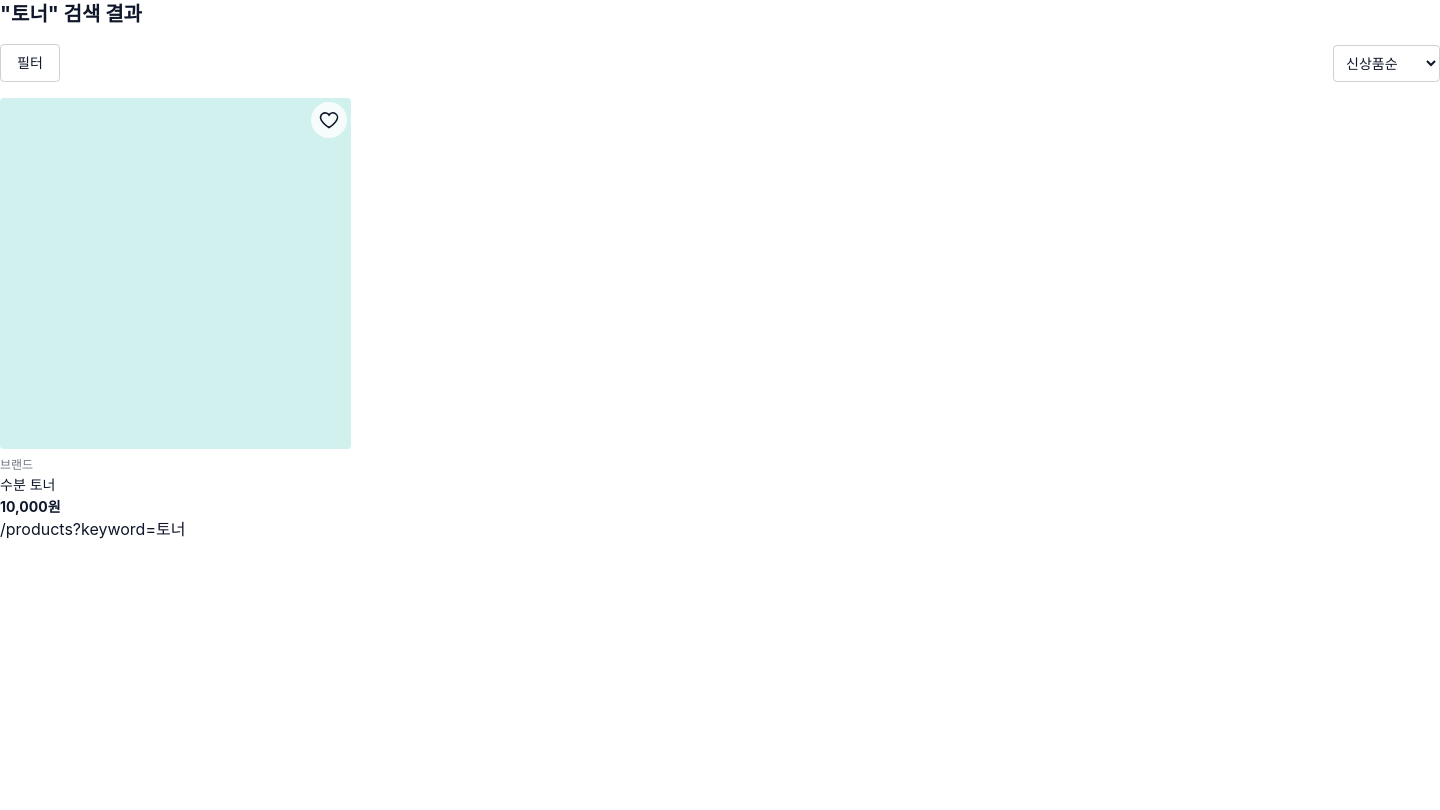
Test: 필터를 적용하면 URL이 바뀐다
Expected: the text "수분 토너" is shown, [0,476,56,493]
Step 1. Click the button "필터" → [30, 63], box [0,44,60,82]
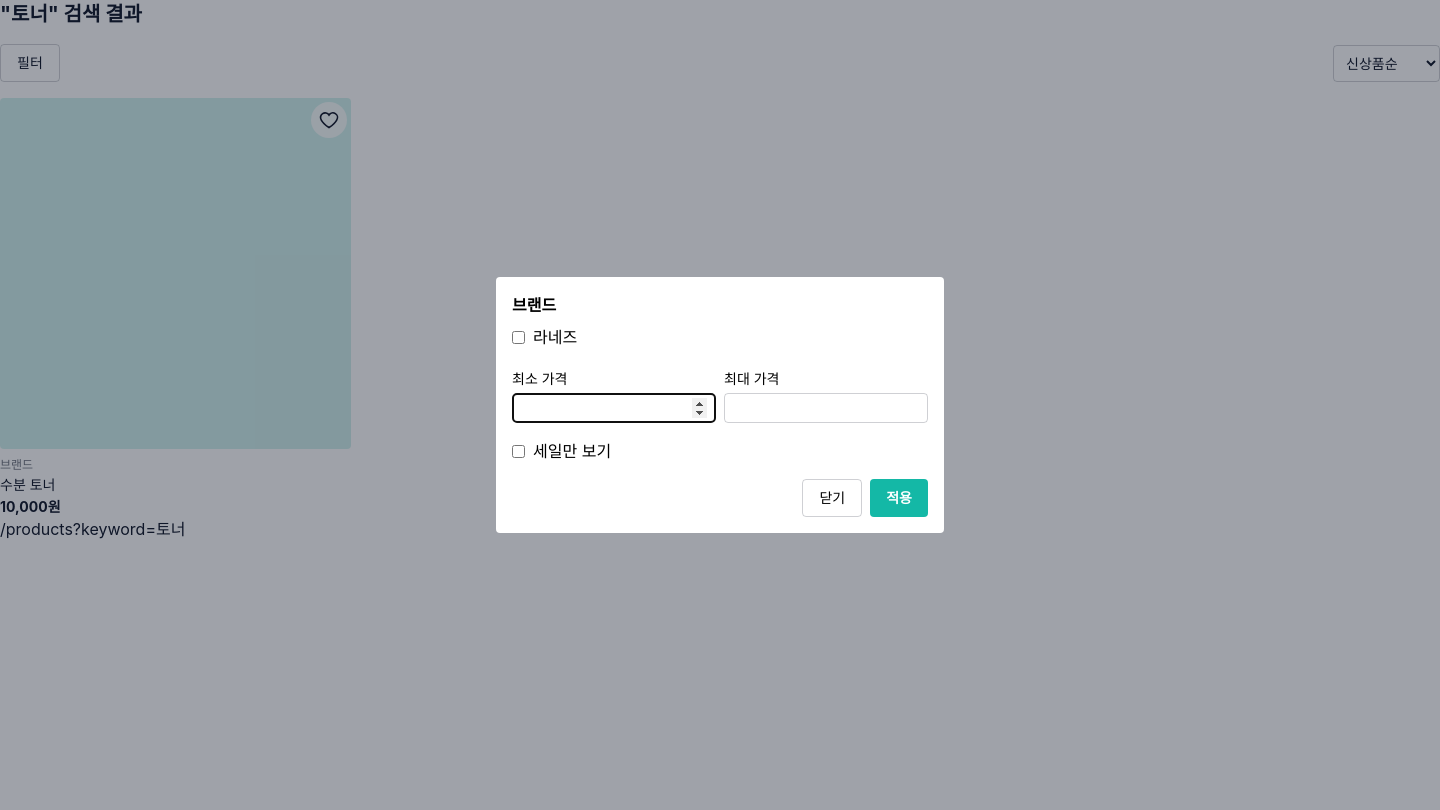
Step 2. Click the checkbox labelled "라네즈" → [518, 337], box [512,330,525,344]
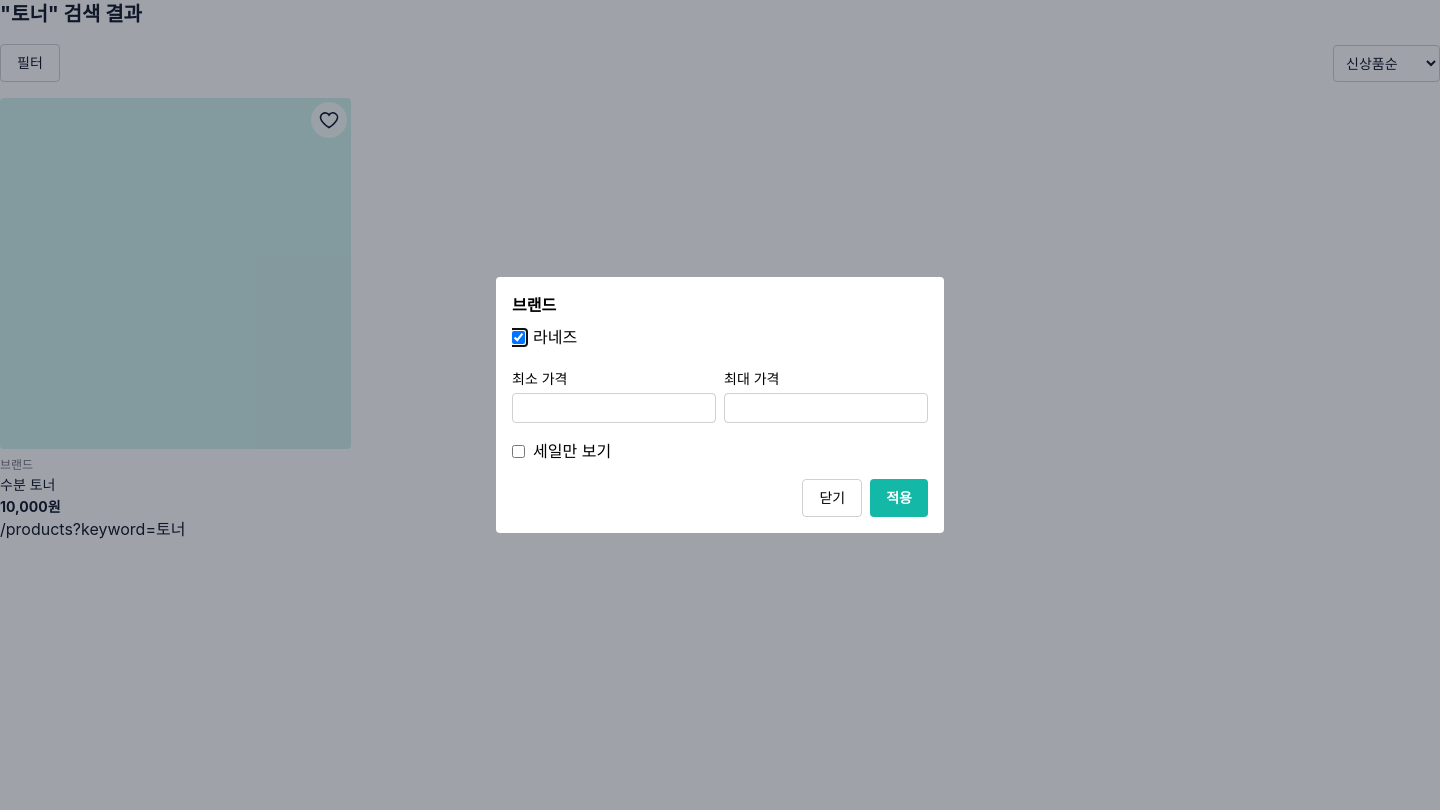
Step 3. Type "1000" into the number field labelled "최소 가격" → [614, 408], box [512,393,716,423]
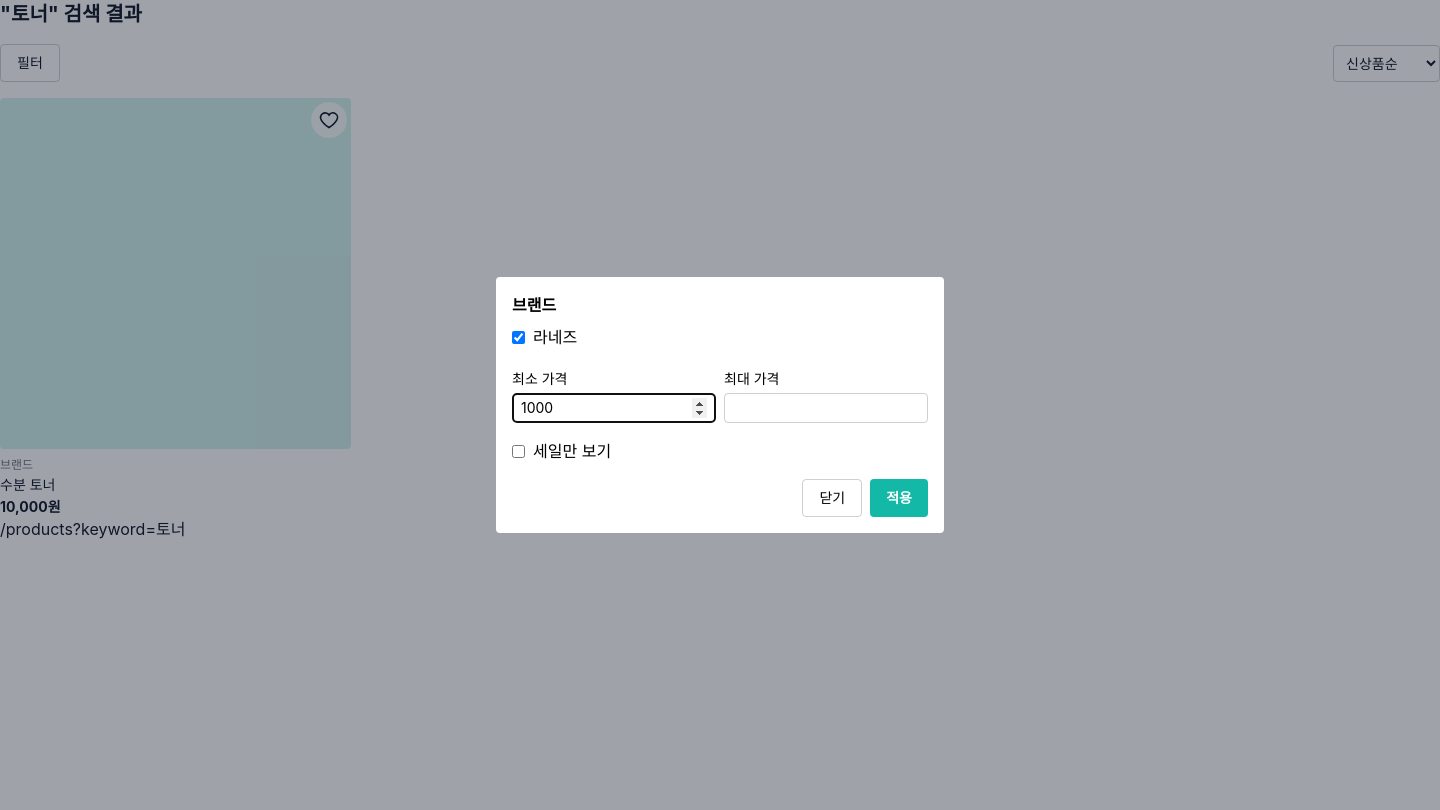
Step 4. Click the checkbox labelled "세일만 보기" → [518, 451], box [512,444,525,458]
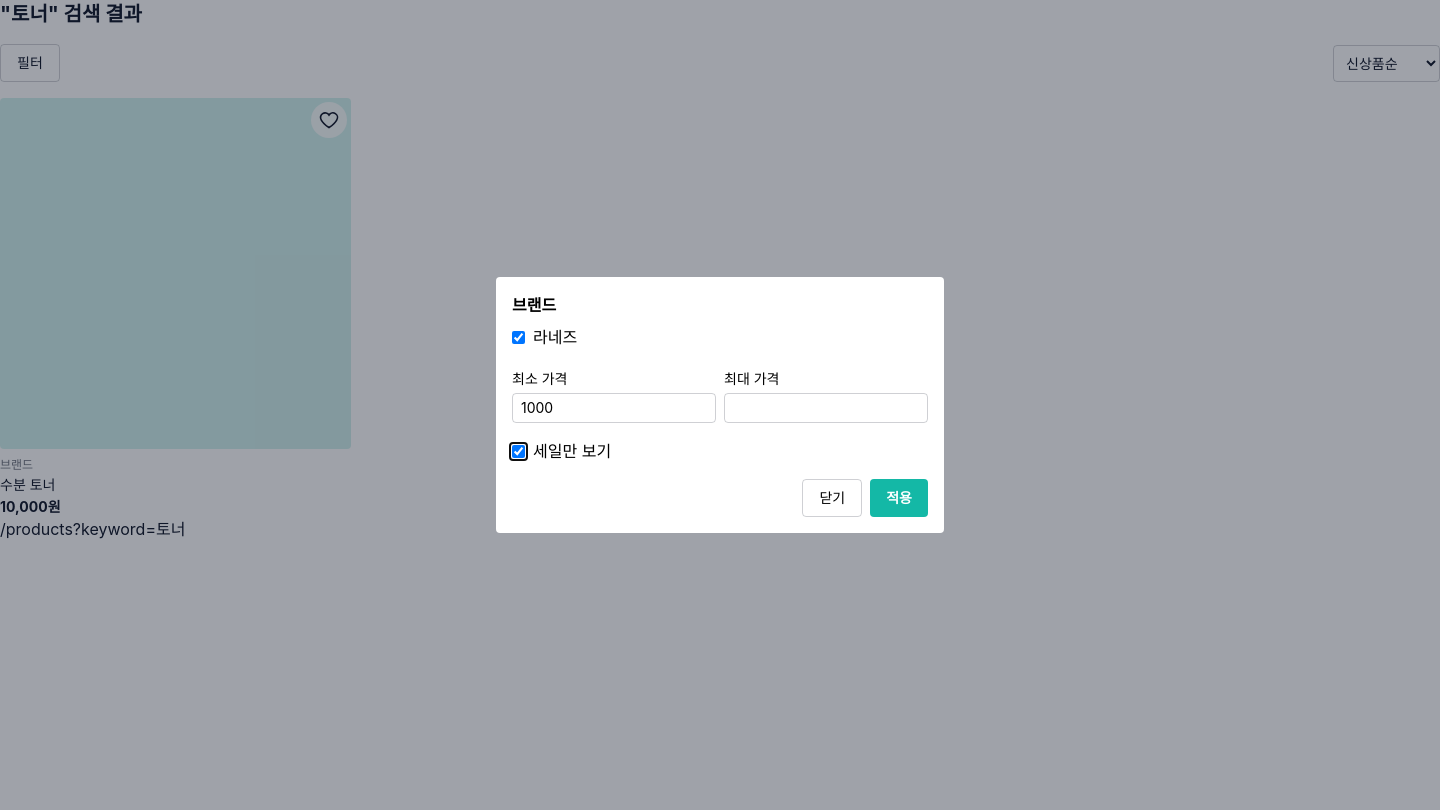
Step 5. Click the button "적용" → [899, 498], box [870,479,928,517]
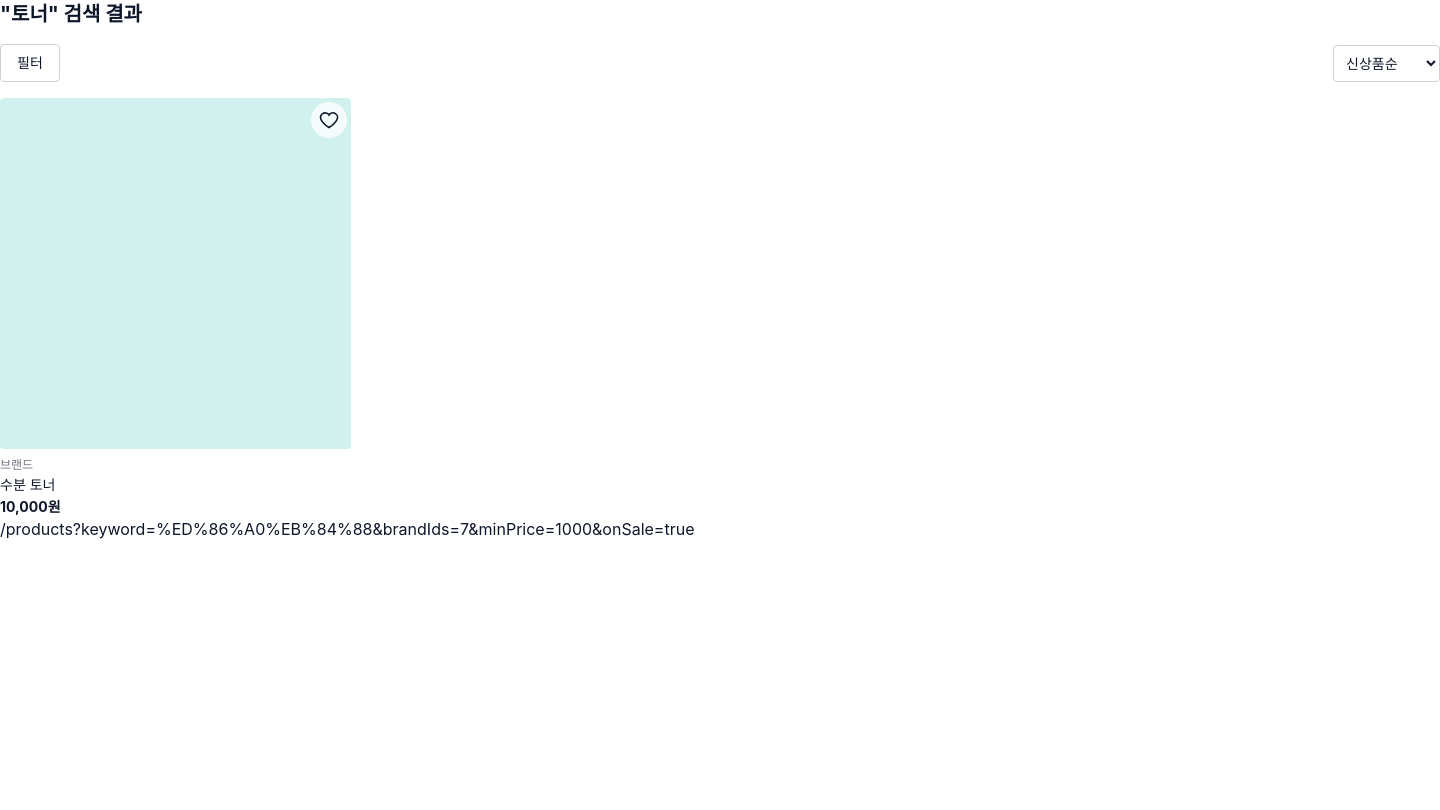
Now the text with test id "loc" shows "brandIds=7", box [0,519,694,539]
Now the text with test id "loc" shows "minPrice=1000", box [0,519,694,539]
Now the text with test id "loc" shows "onSale=true", box [0,519,694,539]
